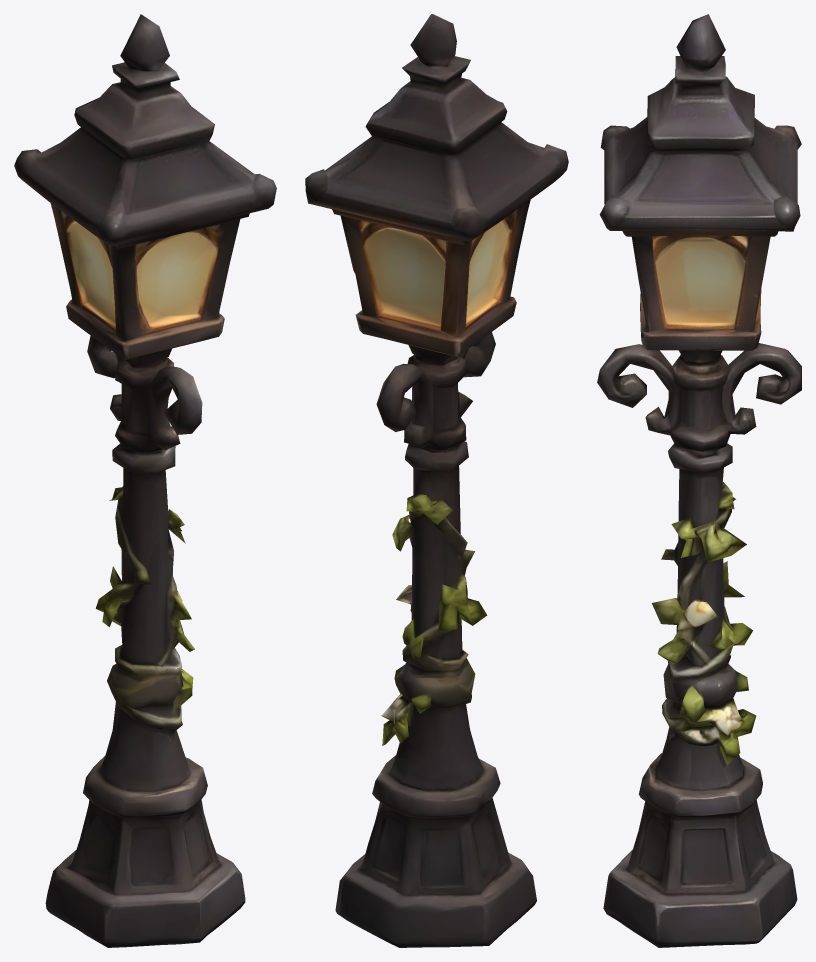
The model's file is meuble-lanterne.glb.
The picture shows the model from 3 angles, left to right: view 1: azimuth 30°, elevation 25°; view 2: azimuth 150°, elevation 25°; view 3: azimuth 270°, elevation 25°; orthographic projection.
Parts seen in each view (by area): view 1: tripo_node_7f6d3fee-f545-460e-86ff-da2b68c9ebfc; view 2: tripo_node_7f6d3fee-f545-460e-86ff-da2b68c9ebfc; view 3: tripo_node_7f6d3fee-f545-460e-86ff-da2b68c9ebfc.
Part boxes in pixels (left/top/right/bottom): tripo_node_7f6d3fee-f545-460e-86ff-da2b68c9ebfc: left=14, top=14, right=276, bottom=947; tripo_node_7f6d3fee-f545-460e-86ff-da2b68c9ebfc: left=305, top=14, right=568, bottom=947; tripo_node_7f6d3fee-f545-460e-86ff-da2b68c9ebfc: left=597, top=14, right=801, bottom=947.
Size of the model in its own units: 0.2035 by 1 by 0.2069.
1 material, 1 textured.
